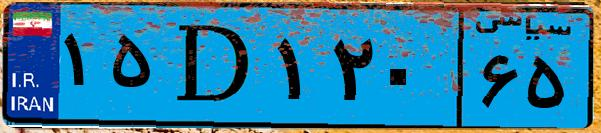0: (385, 28, 445, 110)
1: (270, 28, 330, 110), (57, 26, 110, 100)
2: (330, 28, 385, 110)
5: (525, 38, 570, 115), (110, 28, 158, 98)
6: (475, 38, 525, 113)
D: (158, 12, 270, 120)
